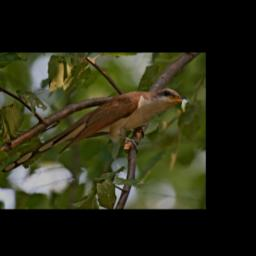Cuckoo: (0, 87, 193, 174)
